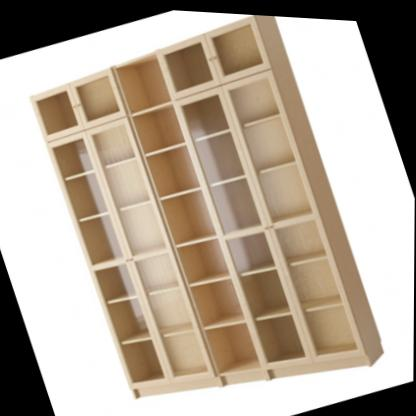Cabinet: (14, 1, 395, 416)
